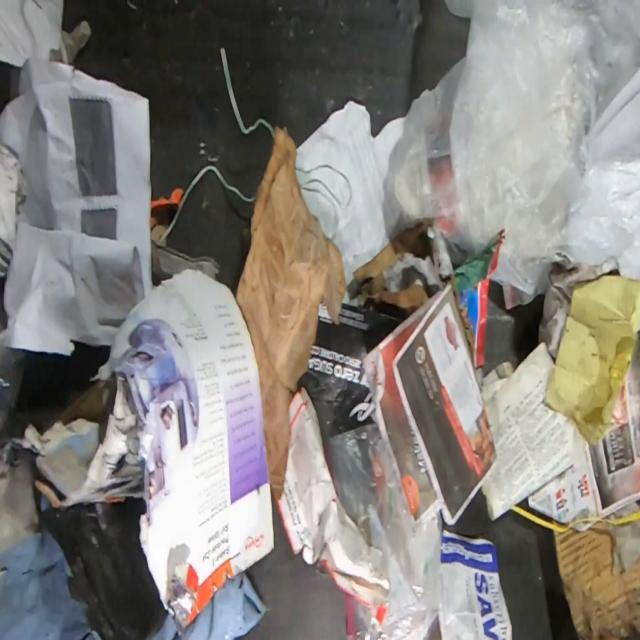cardboard: (237, 127, 347, 500), (552, 517, 638, 639)
soft_plastic: (392, 0, 640, 294), (0, 497, 267, 640), (325, 422, 442, 639)
